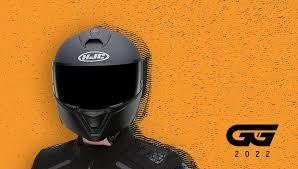helmet: (37, 23, 166, 156)
